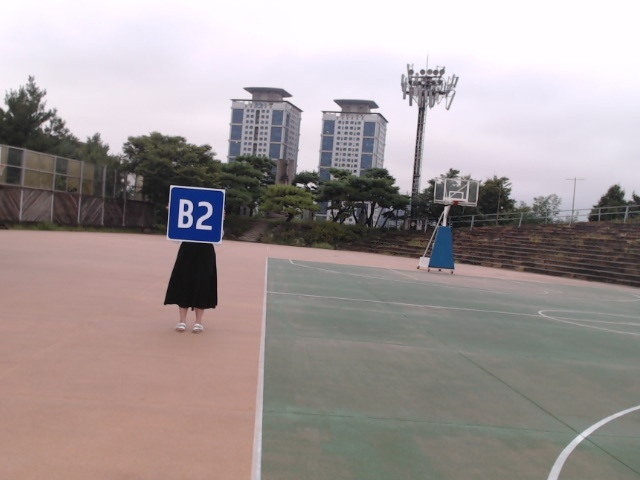delivery_b2: (167, 186, 225, 243)
